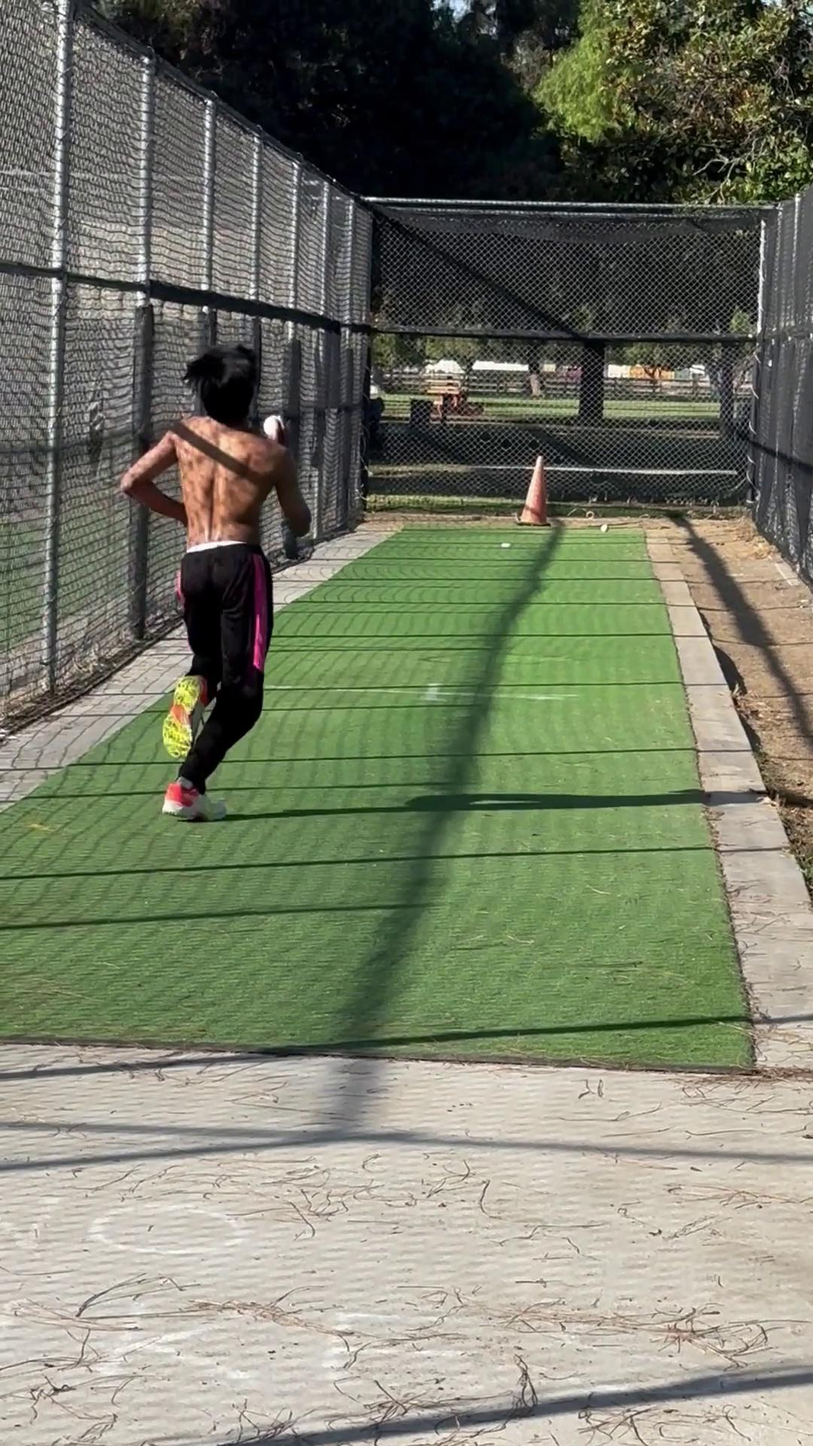ball: (257, 409, 294, 442)
